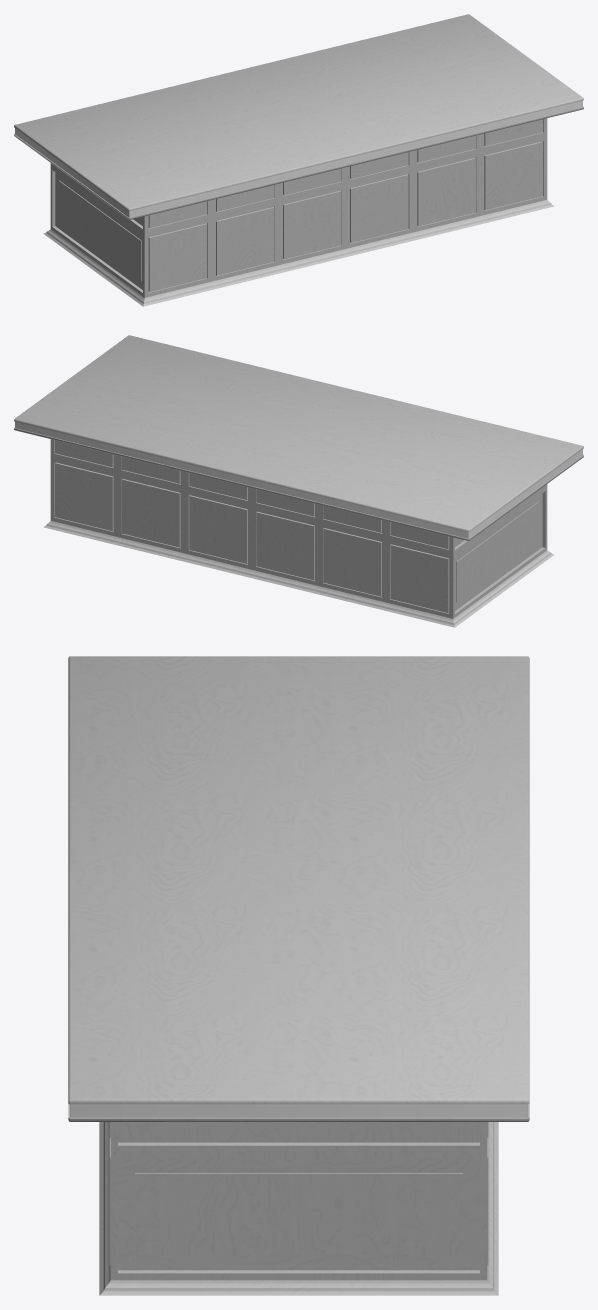
The model's file is Island.fbx.
The picture shows the model from 3 angles, top to bottom: view 1: azimuth 30°, elevation 25°; view 2: azimuth 150°, elevation 25°; view 3: azimuth 270°, elevation 25°; orthographic projection. The views are drawn at different scales.
Parts seen in each view (by area): view 1: Table_Island, Island_1, Mob; view 2: Table_Island, Island_1, Mob; view 3: Table_Island, Island_1, Mob.
Boxes of the visible parts, x1,y1,x2,y2 form: Table_Island: [14, 14, 583, 219]; Island_1: [50, 118, 547, 297]; Mob: [43, 200, 553, 306]; Table_Island: [14, 335, 583, 540]; Island_1: [50, 439, 547, 618]; Mob: [44, 521, 554, 627]; Table_Island: [68, 656, 529, 1121]; Island_1: [109, 1122, 488, 1280]; Mob: [99, 1122, 498, 1295].
Size of the model in its own units: 4.03 by 0.9185 by 1.77.
